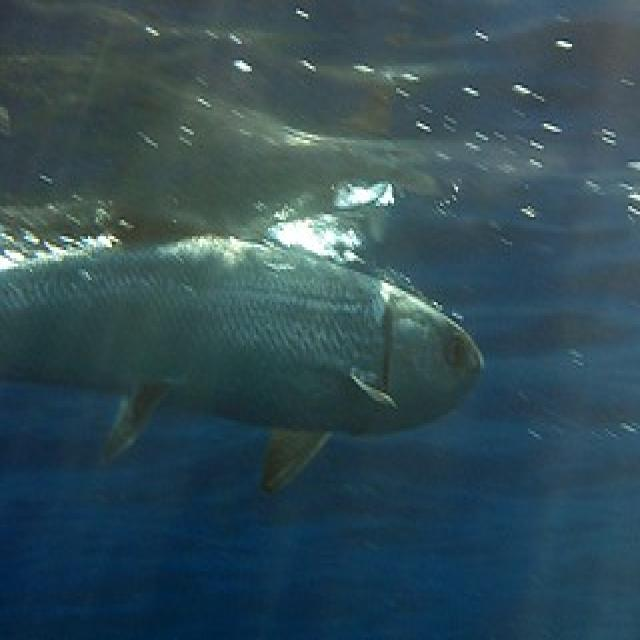Bangus: (0, 157, 526, 541)
